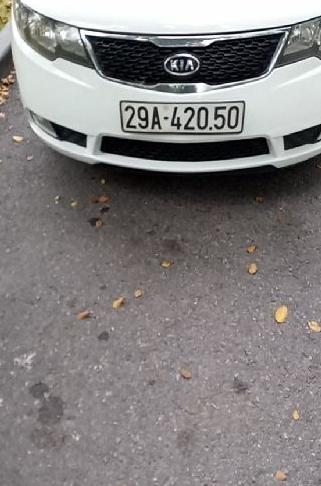Plate-iWeP: (117, 99, 248, 136)
